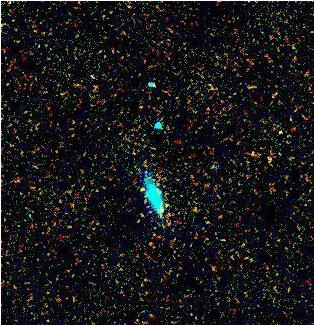star: (127, 174, 157, 204)
